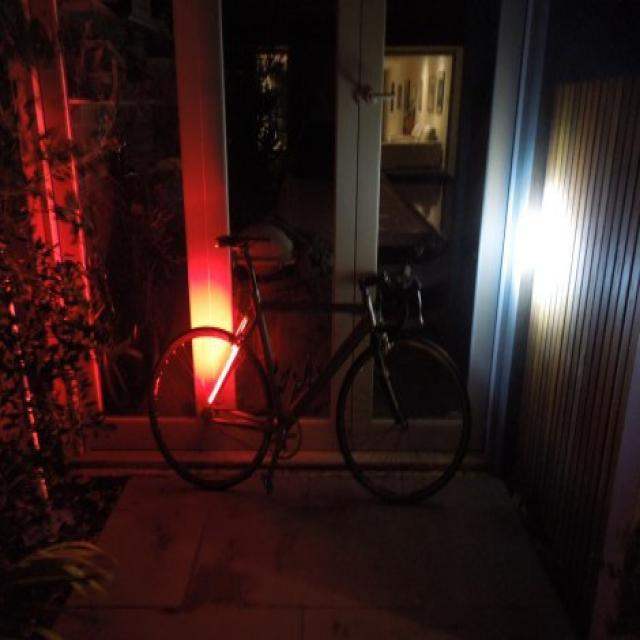Bicycle: (129, 216, 475, 516)
